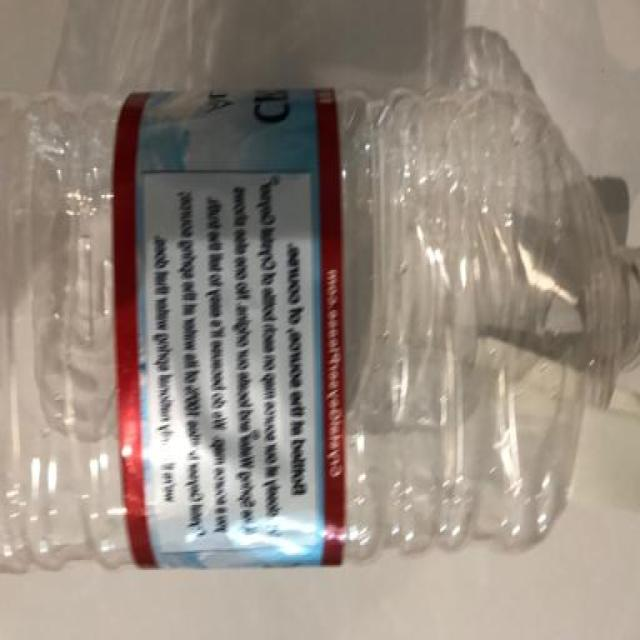plastic: (0, 82, 640, 578)
